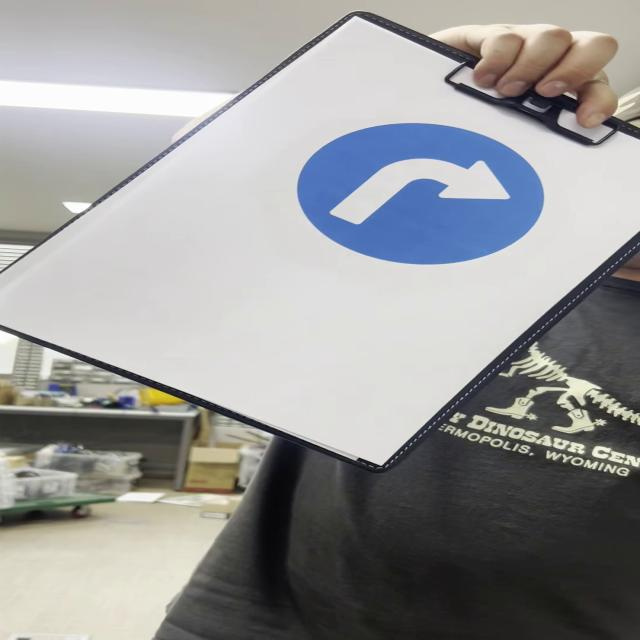right: (295, 124, 546, 264)
